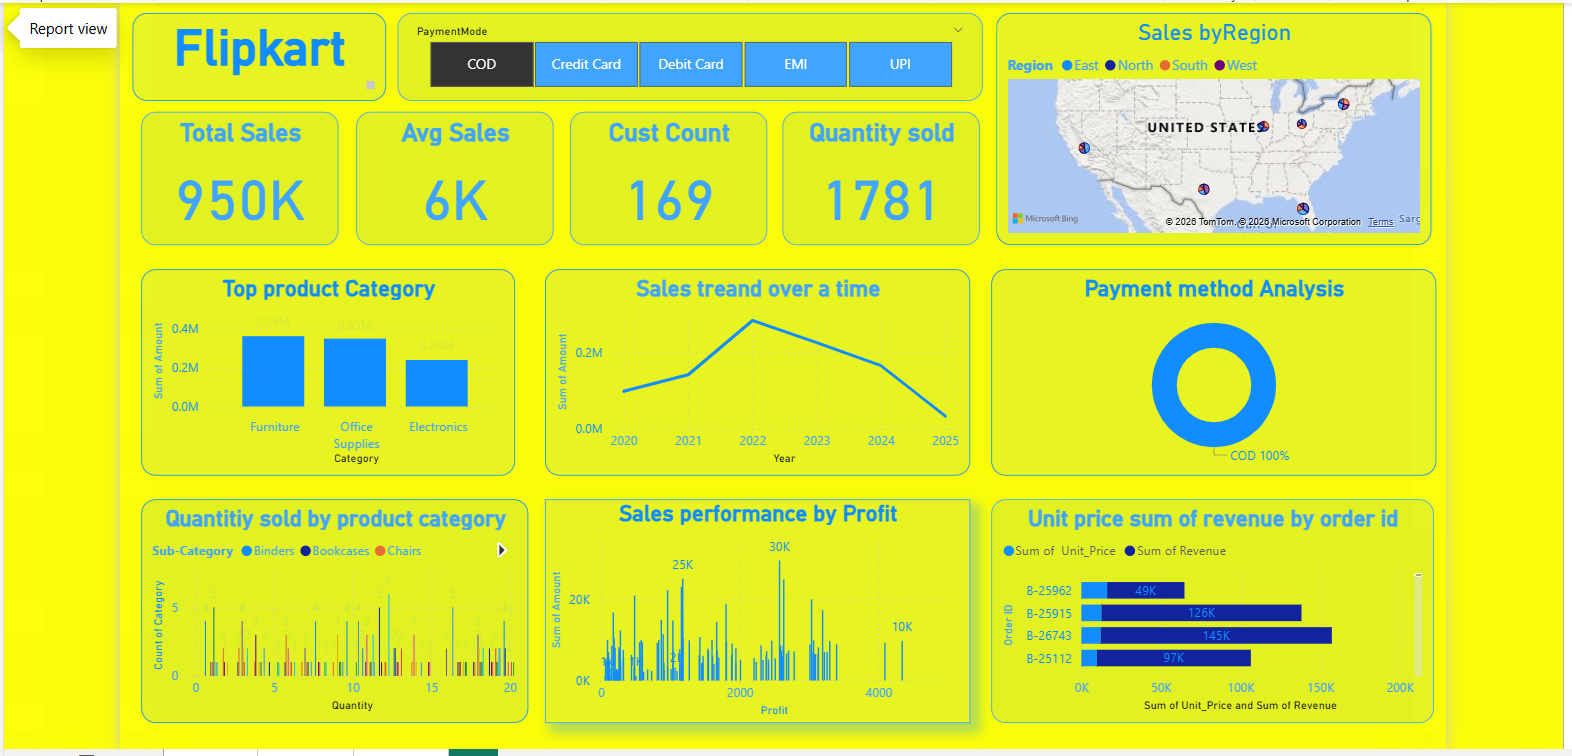

Layout of this report page (visuals, bound fields, positions):
{"tool":"powerbi","page":{"name":"Page 1","canvas":[1280,720],"ordinal":0},"visuals":[{"type":"card","title":"Cust Count","fields":{"Values":["CountNonNull(Sales Dataset.CustomerName)"]},"box":[434.3,105,190.6,129.1],"z":0},{"type":"card","title":"Avg Sales","fields":{"Values":["Avg(Sales Dataset.Amount)"]},"box":[228,105,190.6,129.1],"z":1000},{"type":"card","title":"Total Sales","fields":{"Values":["Sum(Sales Dataset.Amount)"]},"box":[20.5,105,190.6,129.1],"z":2000},{"type":"card","title":"Quantity sold","fields":{"Values":["Sum(Sales Dataset.Quantity)"]},"box":[639.4,105,190.6,129.1],"z":3000},{"type":"map","title":"Sales byRegion","fields":{"Series":["Sales Dataset.Region"],"Size":["Sum(Sales Dataset.Amount)"],"Category":["Sales Dataset.State"]},"box":[845.7,9.7,419.8,224.4],"z":4000},{"type":"columnChart","title":"Top product Category","fields":{"Y":["Sum(Sales Dataset.Amount)"],"Category":["Sales Dataset.Category"]},"box":[20.5,257,360.7,199.1],"z":5000},{"type":"lineChart","title":"Sales treand over a time","fields":{"Category":["Sales Dataset.Order Date.Variation.Date Hierarchy.Year","Sales Dataset.Order Date.Variation.Date Hierarchy.Quarter","Sales Dataset.Order Date.Variation.Date Hierarchy.Month","Sales Dataset.Order Date.Variation.Date Hierarchy.Day"],"Y":["Sum(Sales Dataset.Amount)"]},"box":[410.2,257,410.2,199.1],"z":6000},{"type":"donutChart","title":"Payment method Analysis","fields":{"Category":["Sales Dataset.PaymentMode"],"Y":["Sum(Sales Dataset.Amount)"]},"box":[840.9,257,429.5,199.1],"z":7000},{"type":"clusteredColumnChart","title":"Quantitiy sold by product category","fields":{"Y":["CountNonNull(Sales Dataset.Category)"],"Category":["Sales Dataset.Quantity"],"Series":["Sales Dataset.Sub-Category"]},"box":[20.5,479,374,216],"z":8000},{"type":"clusteredColumnChart","title":"Sales performance by Profit","fields":{"Y":["Sum(Sales Dataset.Amount)"],"Category":["Sales Dataset.Profit"]},"box":[410.2,479,410.2,216],"z":9000},{"type":"barChart","title":"Unit price sum of revenue by order id","fields":{"Y":["Sum(Sales Dataset. Unit_Price )","Sum(Sales Dataset.Revenue)"],"Category":["Sales Dataset.Order ID"]},"box":[840.9,479,427.1,216],"z":10000},{"type":"slicer","fields":{"Values":["Sales Dataset.PaymentMode"]},"box":[267.8,9.7,564.6,84.5],"z":11000},{"type":"textbox","title":"Flipkart","box":[12.1,9.7,244.9,84.5],"z":12000}]}

Visuals, with their boxes on the page's 1280x720 design canvas (x1, y1, x2, y2). These are canvas units, not pixel positions in the 1572x756 screenshot, which may show the page scaled, cropped or inside an application window:
"Cust Count" card: (434,105,625,234)
"Avg Sales" card: (228,105,419,234)
"Total Sales" card: (20,105,211,234)
"Quantity sold" card: (639,105,830,234)
"Sales byRegion" map: (846,10,1266,234)
"Top product Category" columnChart: (20,257,381,456)
"Sales treand over a time" lineChart: (410,257,820,456)
"Payment method Analysis" donutChart: (841,257,1270,456)
"Quantitiy sold by product category" clusteredColumnChart: (20,479,394,695)
"Sales performance by Profit" clusteredColumnChart: (410,479,820,695)
"Unit price sum of revenue by order id" barChart: (841,479,1268,695)
slicer - Sales Dataset.PaymentMode: (268,10,832,94)
"Flipkart" textbox: (12,10,257,94)
